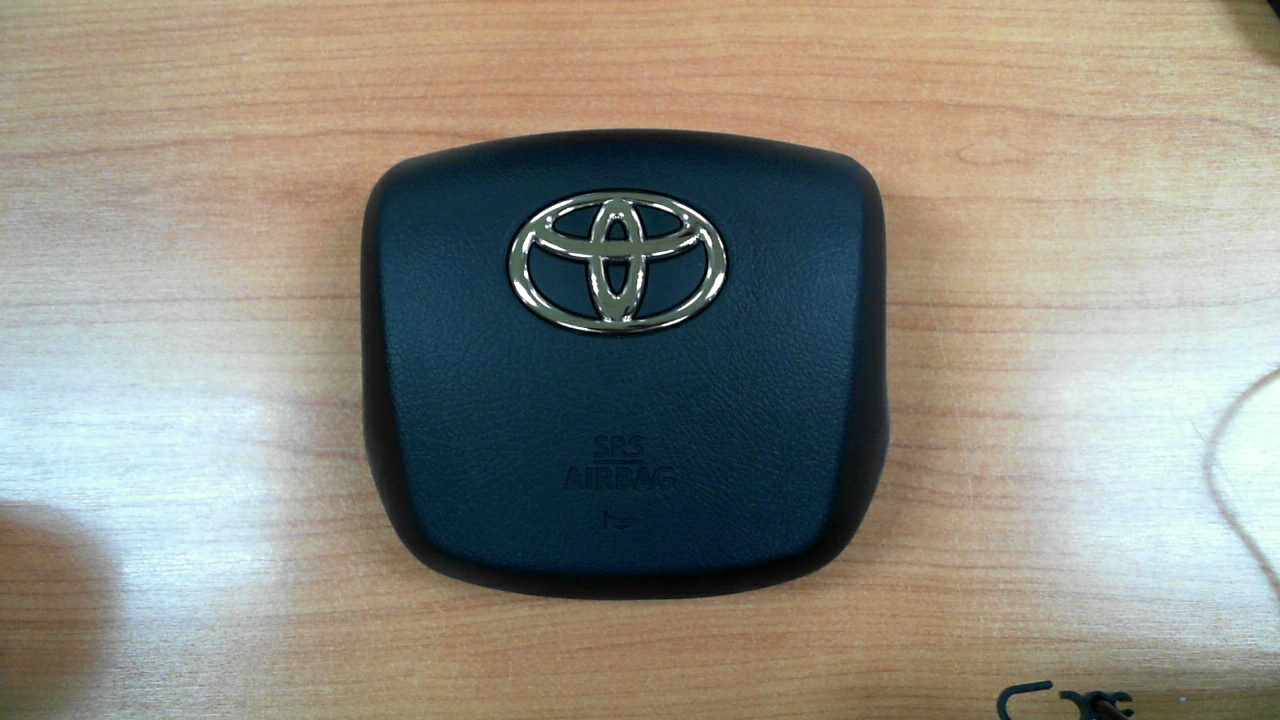Airbag: (322, 93, 925, 626)
